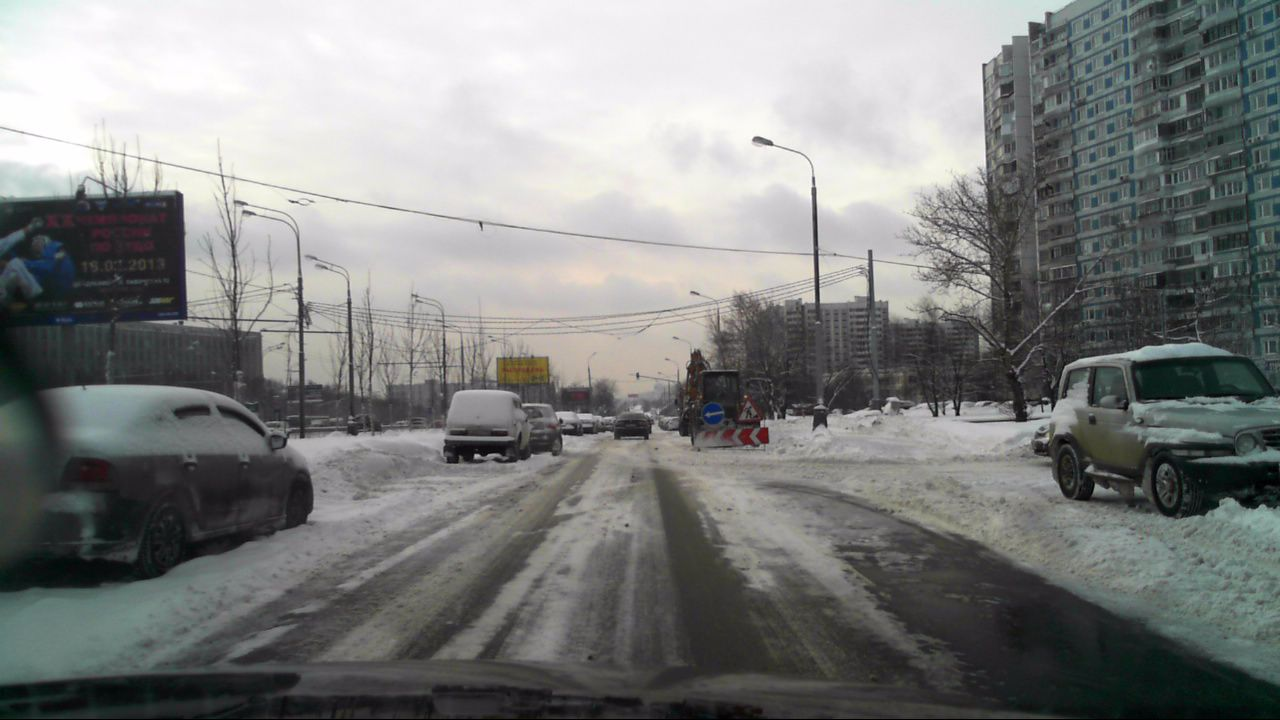Turn Left: (702, 402, 724, 425)
